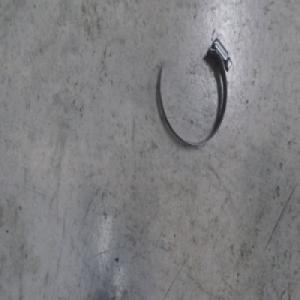AdjustableClamp: (157, 33, 232, 152)
